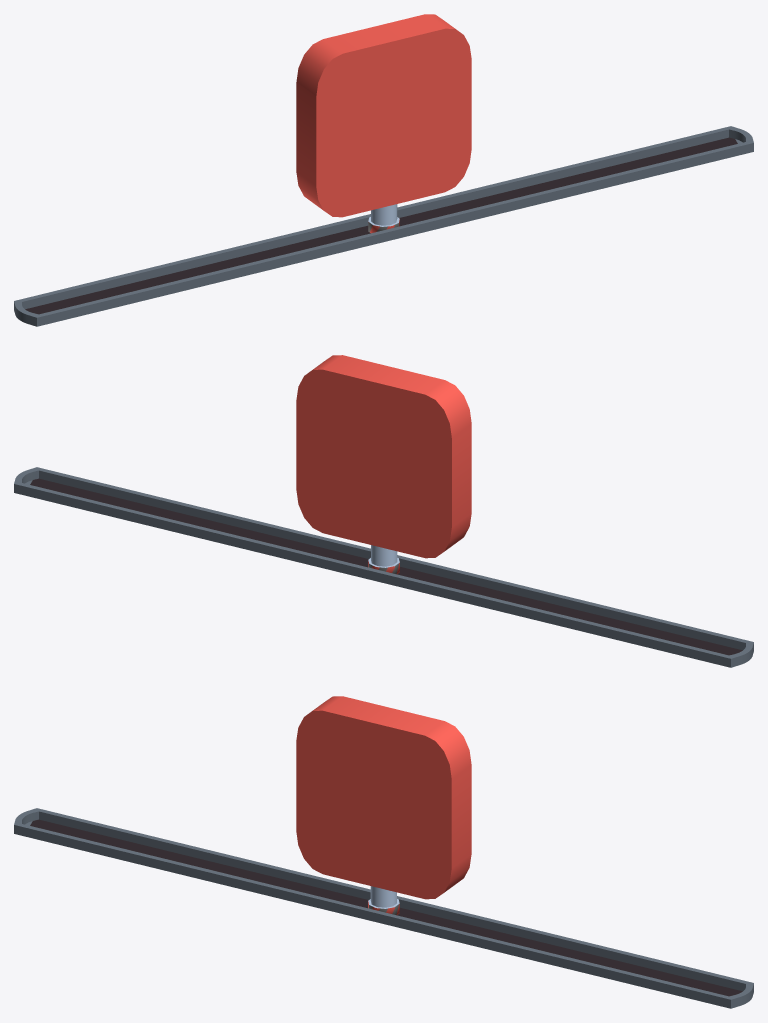
Rendered from MovableWall01.fbx.
3 views of the same model, one above another, from view 1: azimuth 30°, elevation 25°; view 2: azimuth 150°, elevation 25°; view 3: azimuth 330°, elevation 25° (orthographic).
Visible parts, largest first — view 1: Wall.002, Base; view 2: Wall.002, Base; view 3: Wall.002, Base.
Boxes of the visible parts, left/top/right/bottom form: Wall.002: left=296, top=14, right=471, bottom=233; Base: left=14, top=126, right=753, bottom=326; Wall.002: left=296, top=355, right=471, bottom=574; Base: left=14, top=467, right=753, bottom=667; Wall.002: left=296, top=696, right=471, bottom=915; Base: left=14, top=808, right=753, bottom=1008.
Bounding box in the file's own units: 848 × 219 × 46.23.
